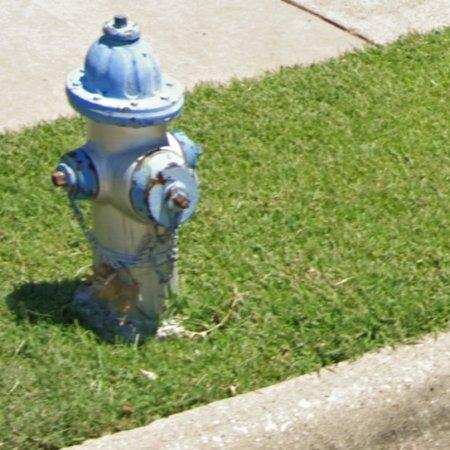a fire hydrant: (52, 15, 202, 342)
